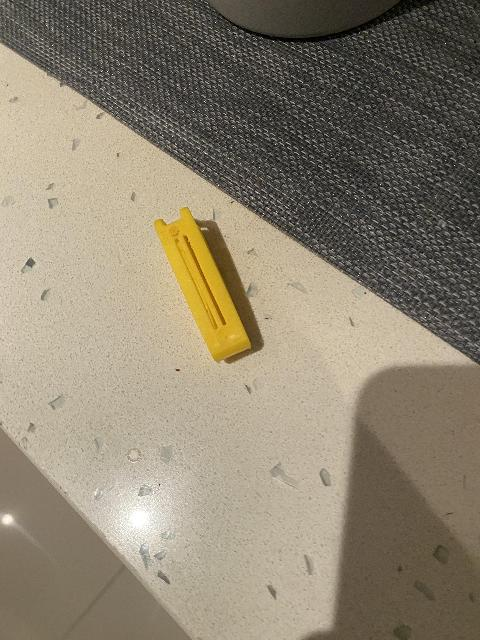Plastik: (146, 205, 257, 367)
